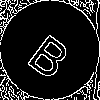B: (25, 25, 79, 82)
